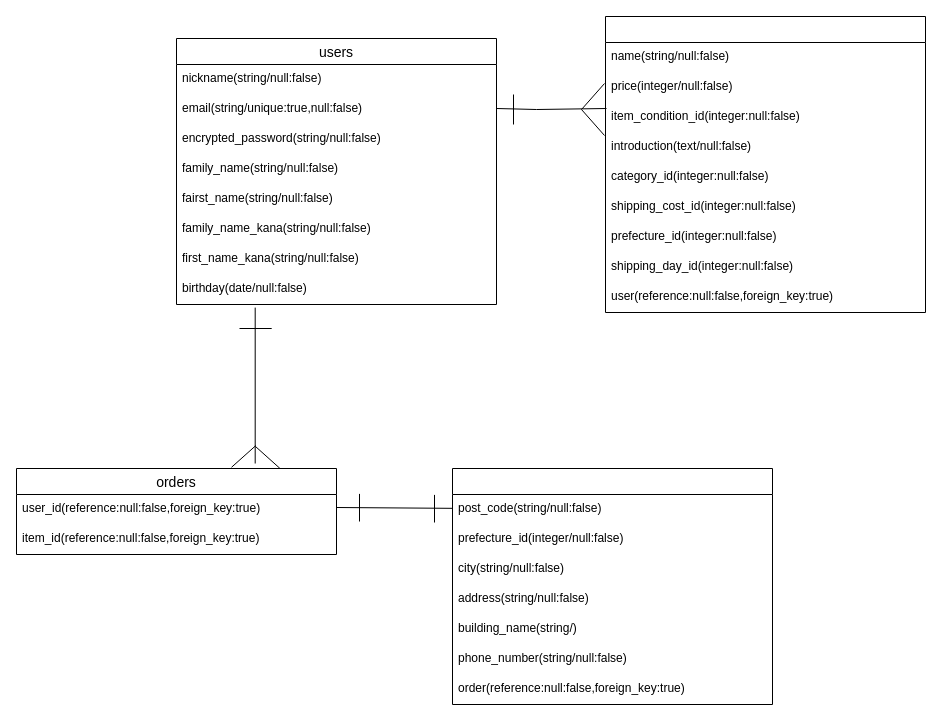
Image size: 942x721. Some labels were removed from this diagram. The box of each missing label's shape, as (x1, y1, x2, y2) in pixels:
buyers: (452, 468, 772, 704)
items: (604, 16, 926, 312)
